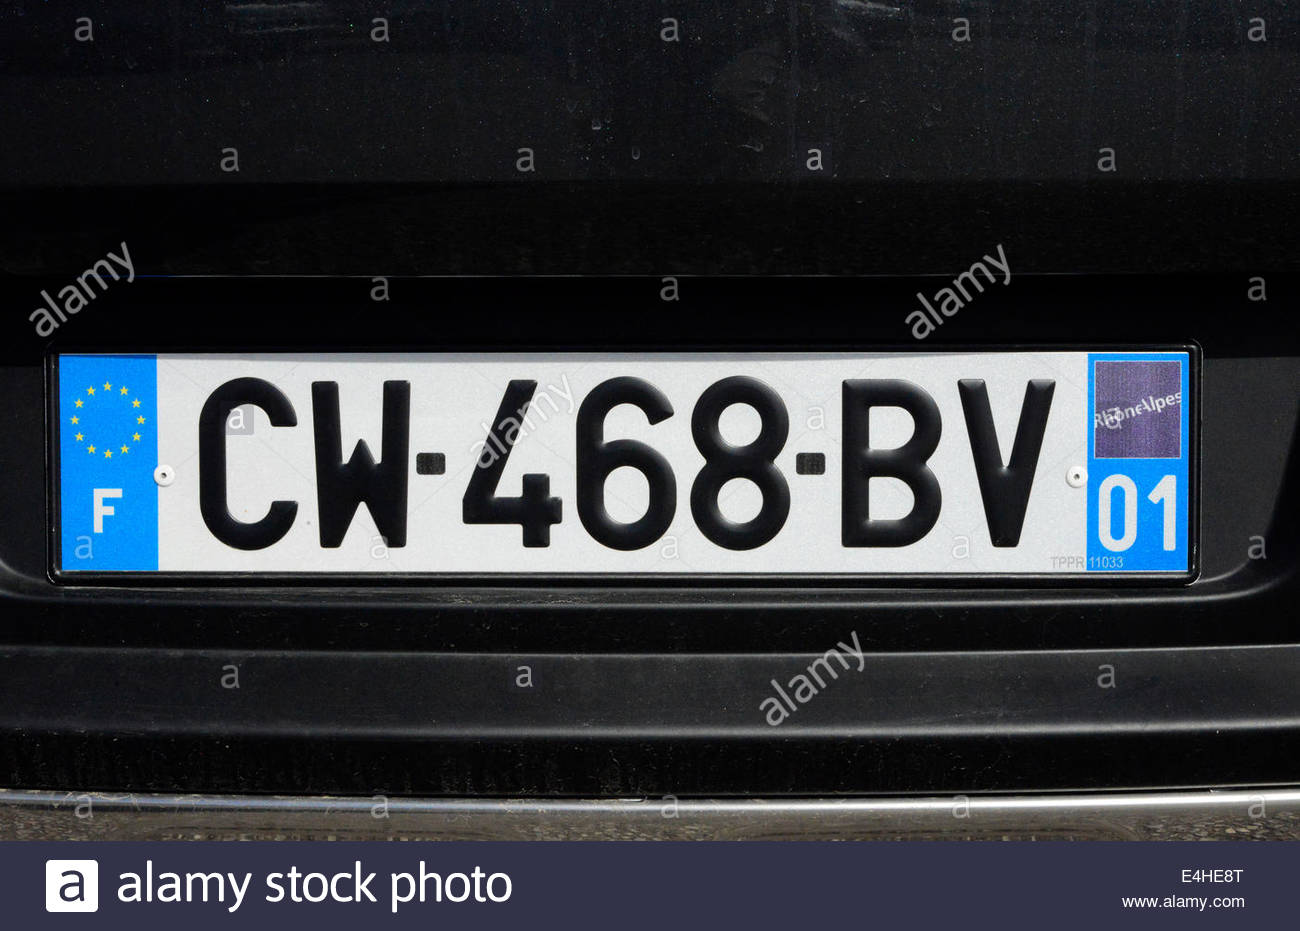license_plate: (55, 351, 1196, 579)
